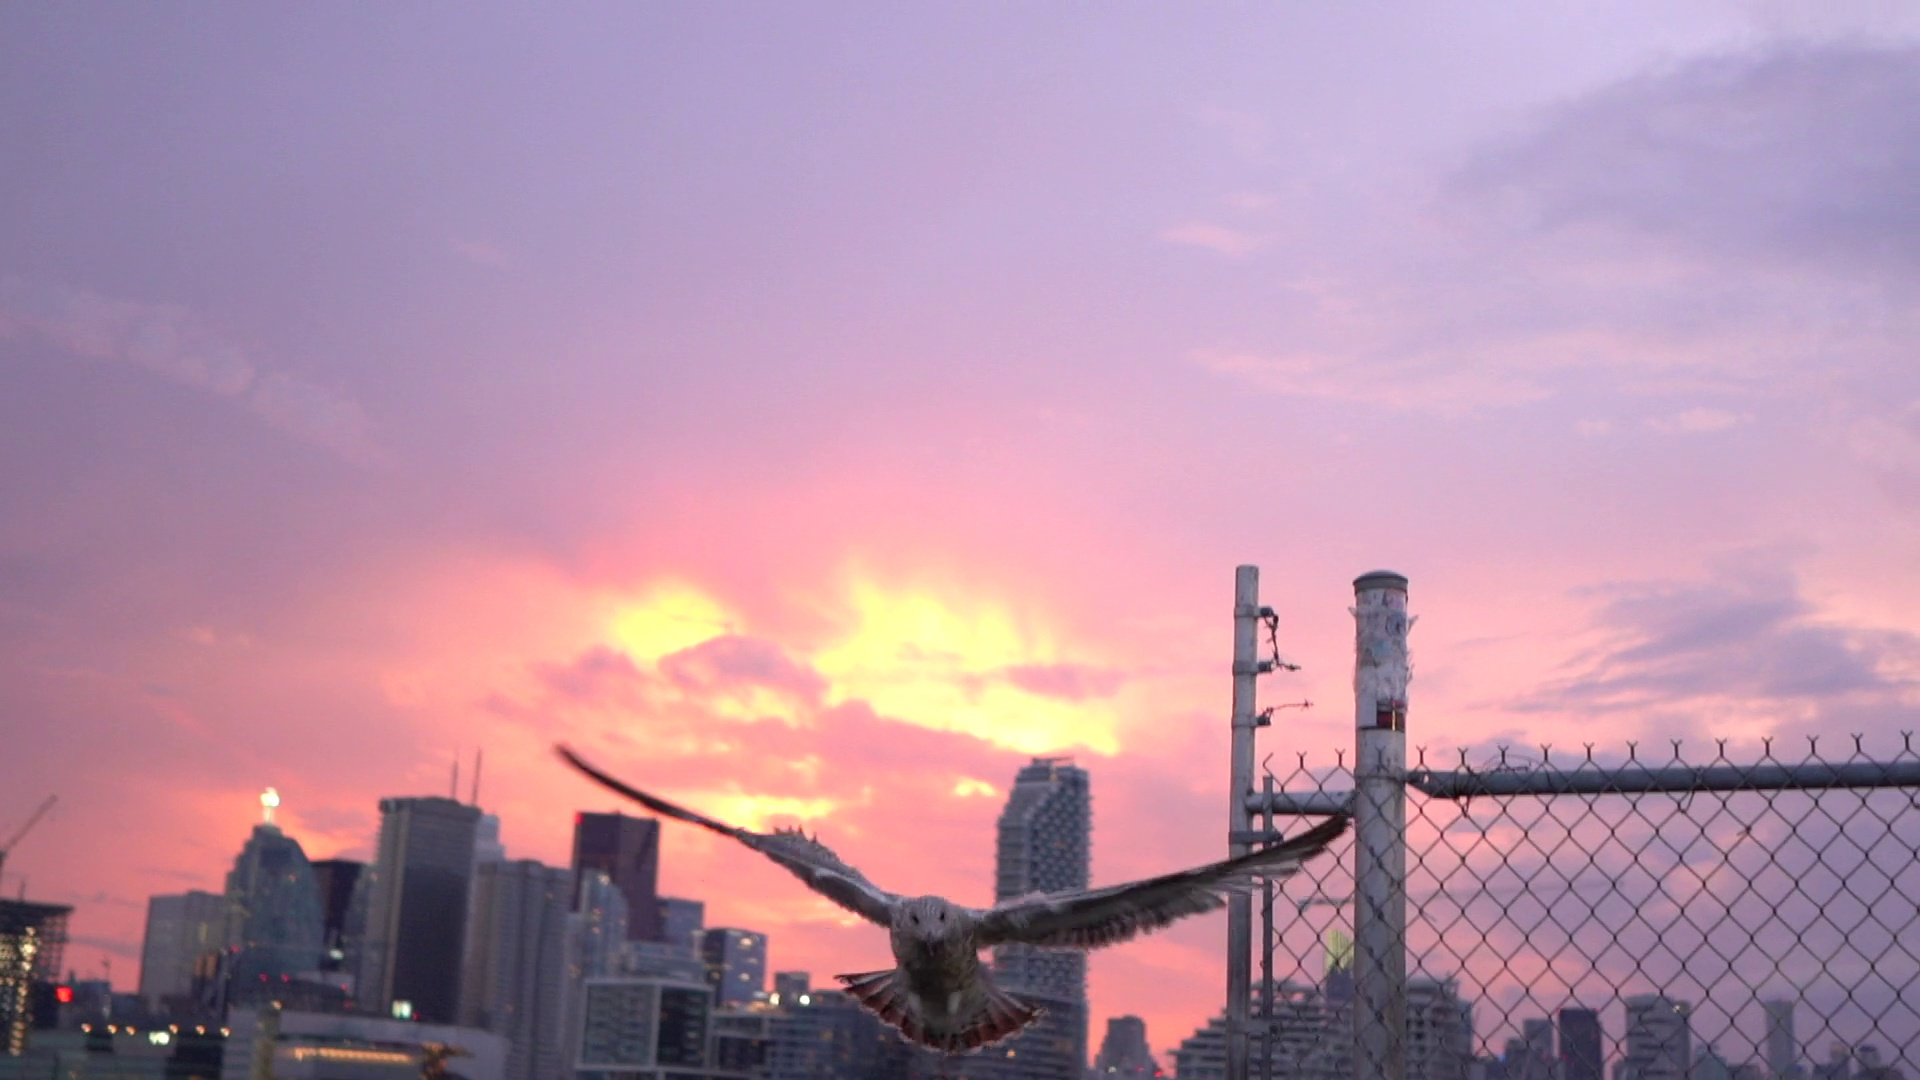bird: (556, 738, 1346, 1056)
